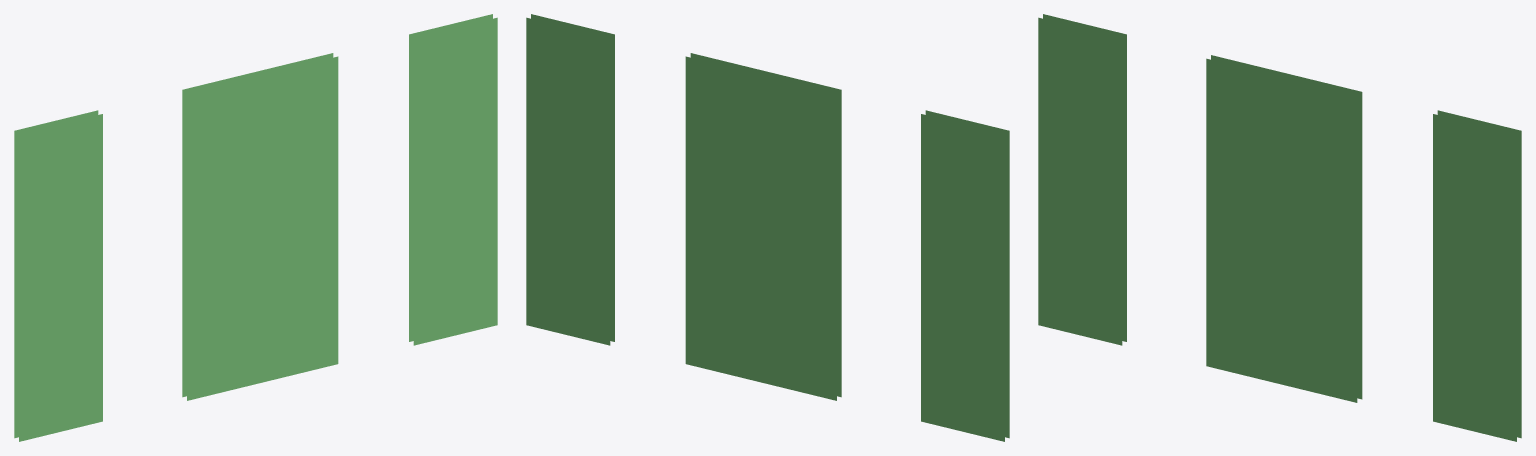
Rendered from Bld3_Wall_Mid_E_Wind.fbx.
3 renders of one model, left to right at view 1: azimuth 30°, elevation 25°; view 2: azimuth 150°, elevation 25°; view 3: azimuth 330°, elevation 25°, orthographic.
Visible parts, largest first — view 1: Bld3_Wall_Mid_E_Wind; view 2: Bld3_Wall_Mid_E_Wind; view 3: Bld3_Wall_Mid_E_Wind.
Part boxes in pixels (x1=…): Bld3_Wall_Mid_E_Wind: x1=14, y1=14, x2=497, y2=441; Bld3_Wall_Mid_E_Wind: x1=526, y1=14, x2=1009, y2=441; Bld3_Wall_Mid_E_Wind: x1=1038, y1=14, x2=1521, y2=441.
Size of the model in its own units: 428 by 262 by 7.5.
